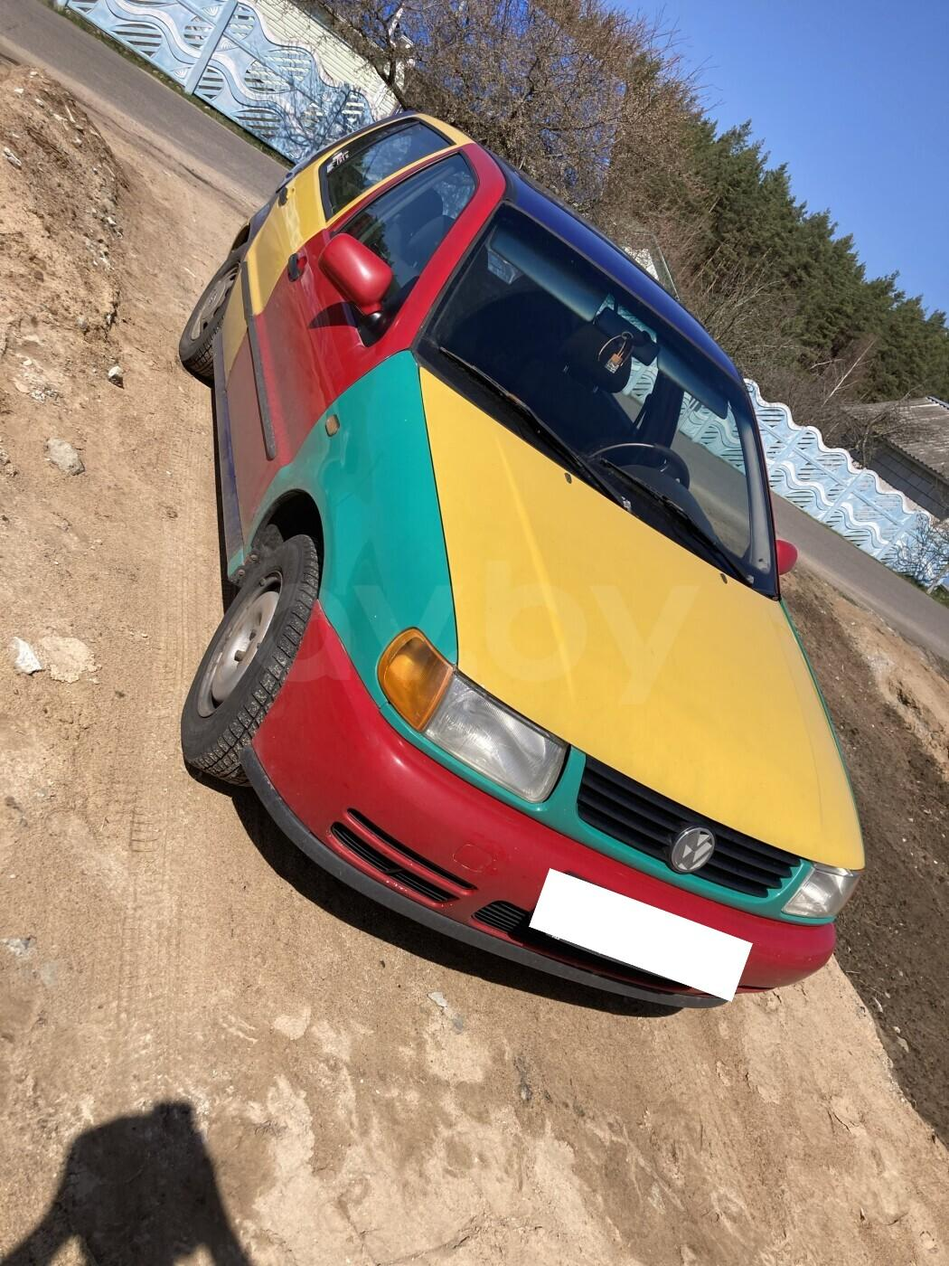Polo_1994-2002: (176, 93, 867, 1045)
